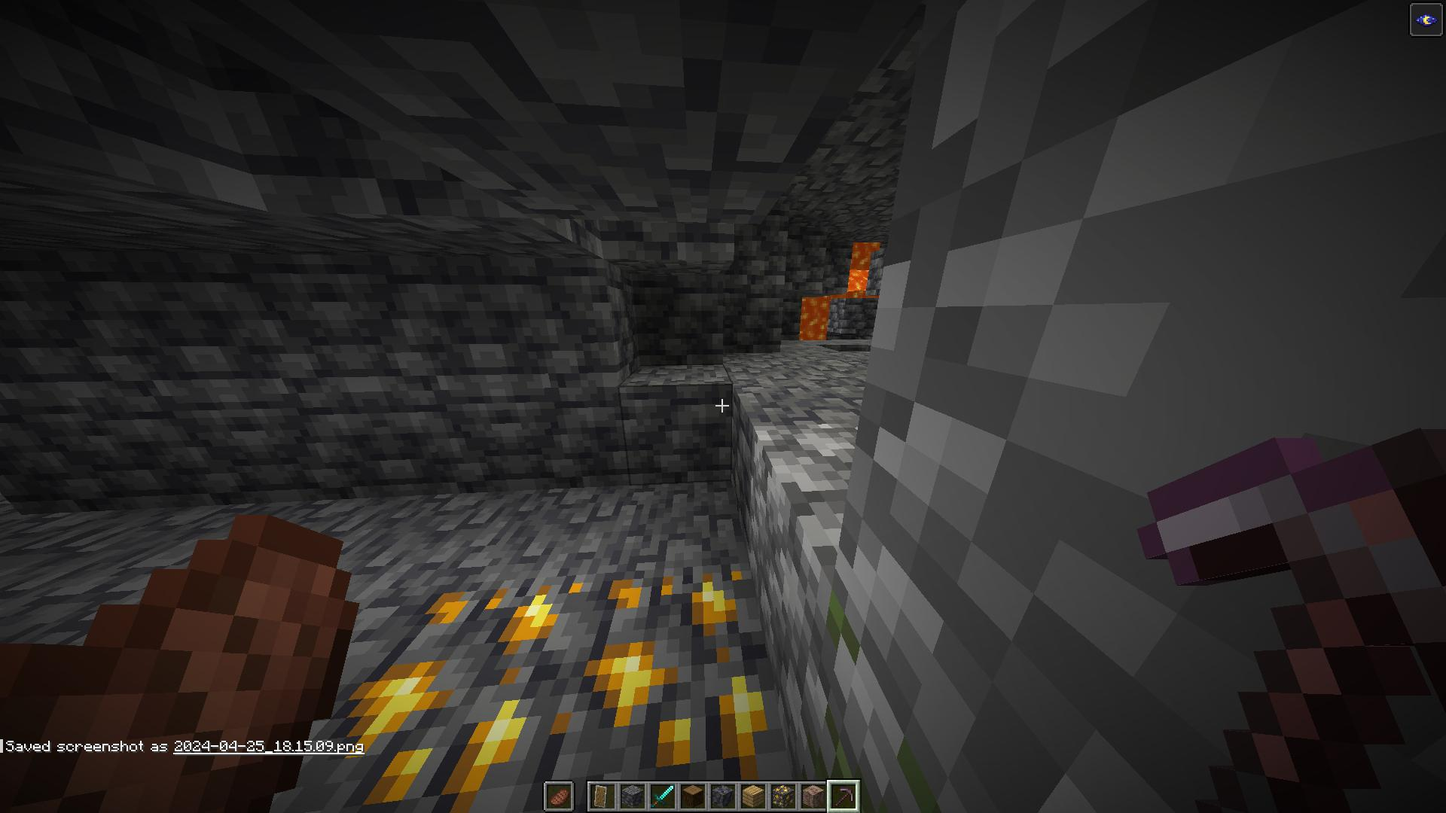gold ore: (579, 556, 798, 782), (337, 680, 584, 813), (363, 579, 590, 680)
